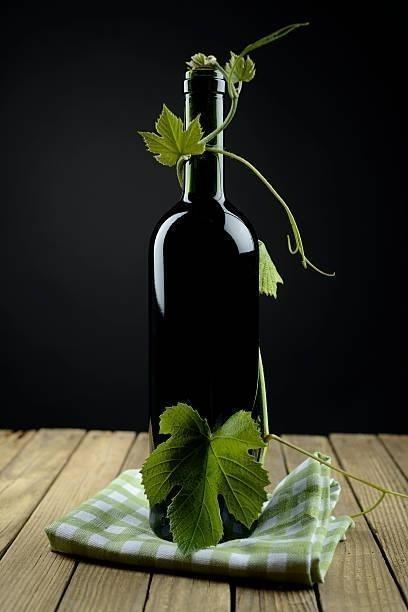bottle-glass: (142, 65, 274, 540)
